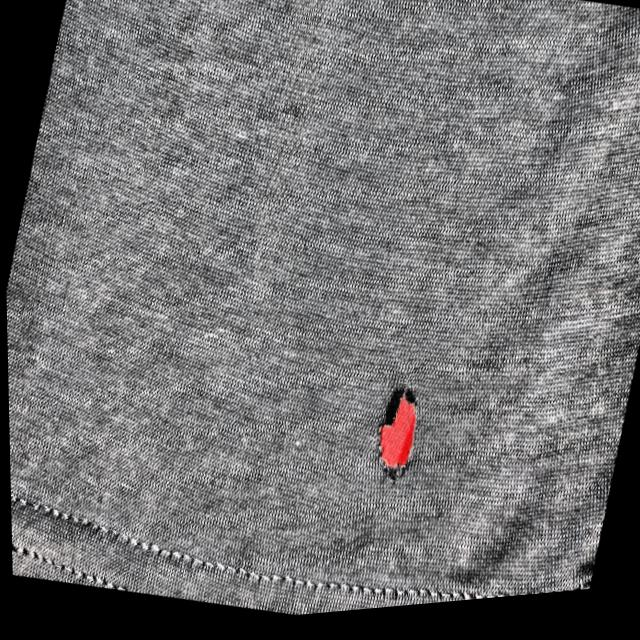Hole: (349, 364, 437, 504)
